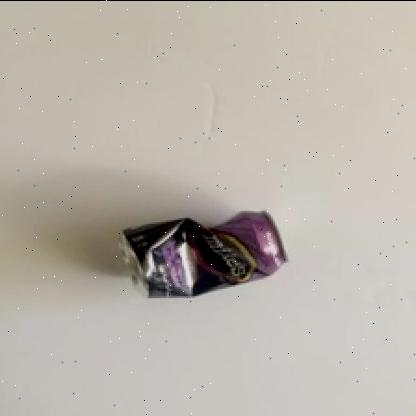Can: (116, 199, 293, 309)
